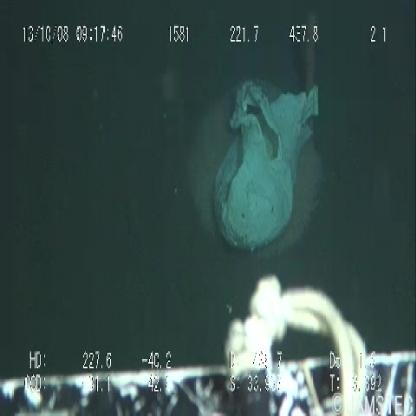Rov: (1, 266, 416, 416)
Rác: (204, 63, 328, 264)
